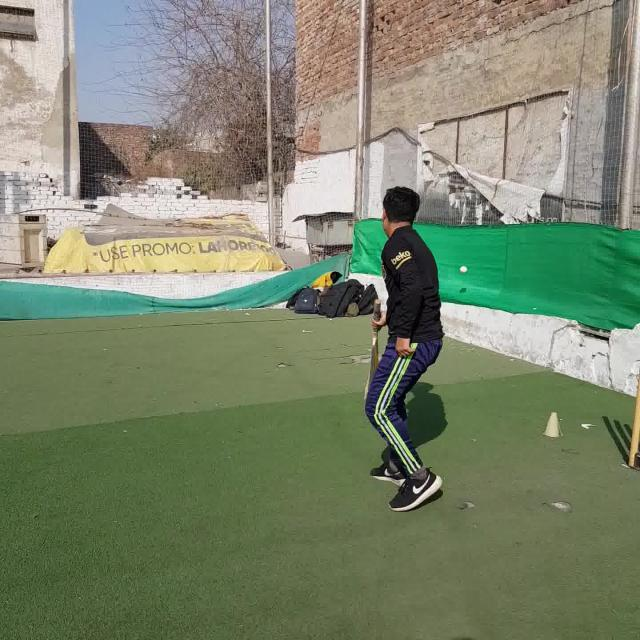ball: (460, 266, 468, 272)
bat: (364, 299, 382, 400)
